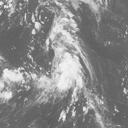cyclone: (44, 35, 94, 104)
